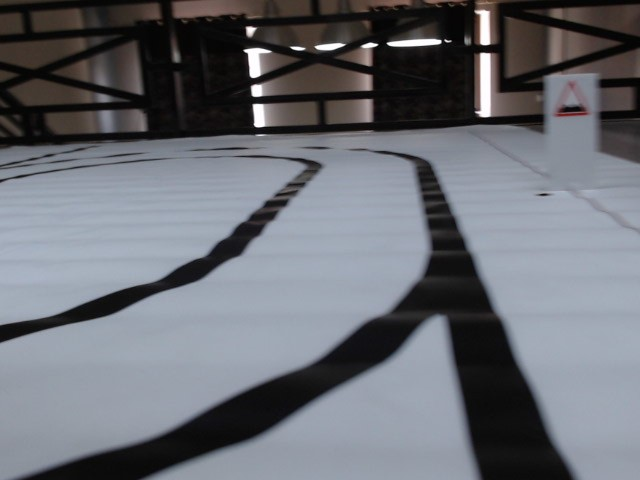Nerov: (552, 81, 589, 120)
